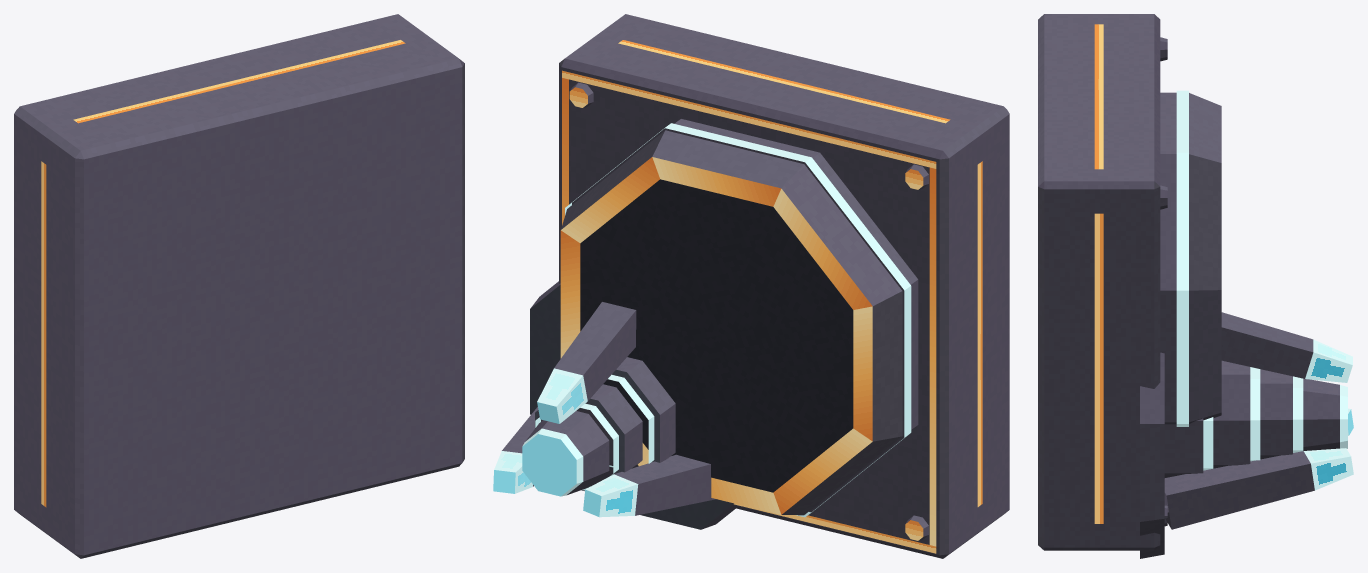
Rendered from marlit_laser_drill.glb.
3 views of the same model, side by side, from view 1: azimuth 30°, elevation 25°; view 2: azimuth 150°, elevation 25°; view 3: azimuth 270°, elevation 25° (orthographic). The views are drawn at different scales.
Visible parts, largest first — view 1: marlit_laser_drill_body; view 2: marlit_laser_drill_body, marlit_laser_drill_head; view 3: marlit_laser_drill_body, marlit_laser_drill_head.
Boxes of the visible parts, box(x1,y1,x2,y2) form: marlit_laser_drill_body: box(14, 14, 464, 558); marlit_laser_drill_body: box(559, 14, 1009, 558); marlit_laser_drill_head: box(493, 281, 735, 529); marlit_laser_drill_body: box(1038, 14, 1221, 550); marlit_laser_drill_head: box(1140, 312, 1353, 558).
Bounding box in the file's own units: 2.14 × 2.14 × 1.55.
1 material, 1 textured.
